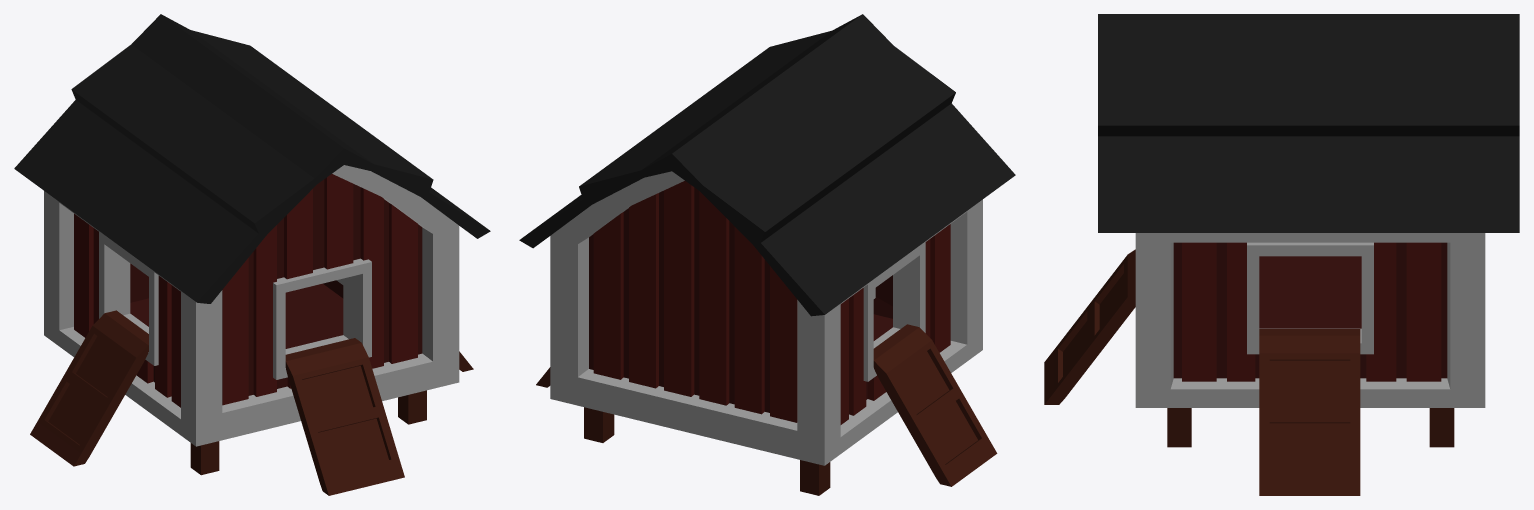
File: ChickenCoopFix.fbx
3 renders of one model, left to right at view 1: azimuth 30°, elevation 25°; view 2: azimuth 150°, elevation 25°; view 3: azimuth 270°, elevation 25°, orthographic. The views are drawn at different scales.
Parts seen in each view (by area): view 1: ChickenCoop; view 2: ChickenCoop; view 3: ChickenCoop.
Part boxes in pixels (x1,y1,x2,y2): ChickenCoop: (14, 14, 490, 495); ChickenCoop: (519, 14, 1015, 495); ChickenCoop: (1044, 14, 1519, 495).
Bounding box in the file's own units: 92.08 × 70.8 × 82.39.
